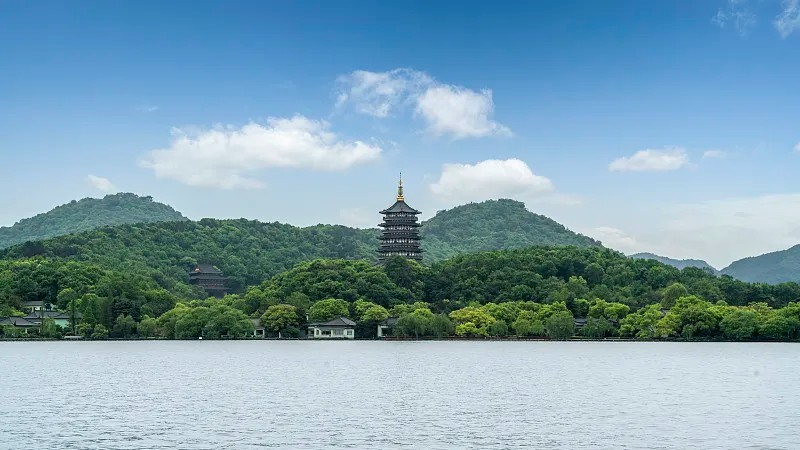Leifeng: (379, 172, 423, 265)
